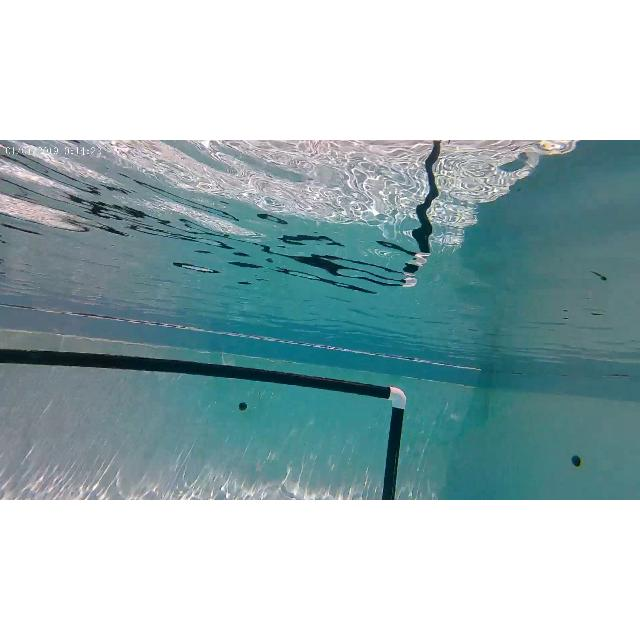prequal gate: (0, 350, 406, 500)
prequal gate leg r: (380, 380, 408, 500)
